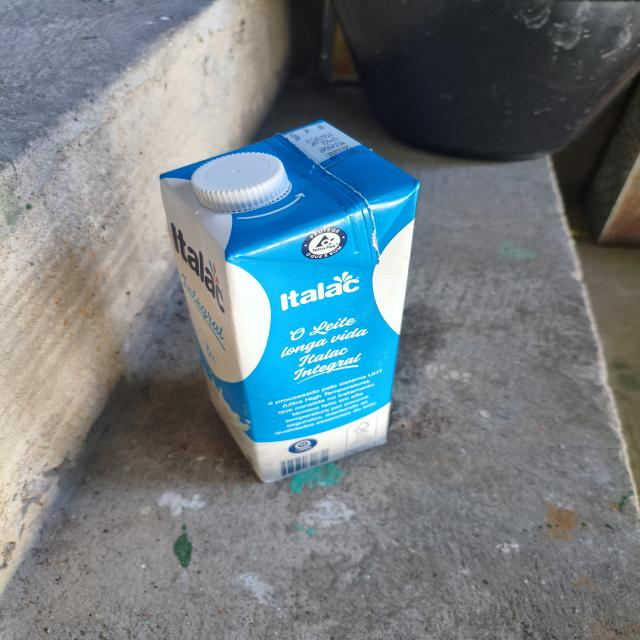Caixa de Leite: (148, 120, 452, 487)
